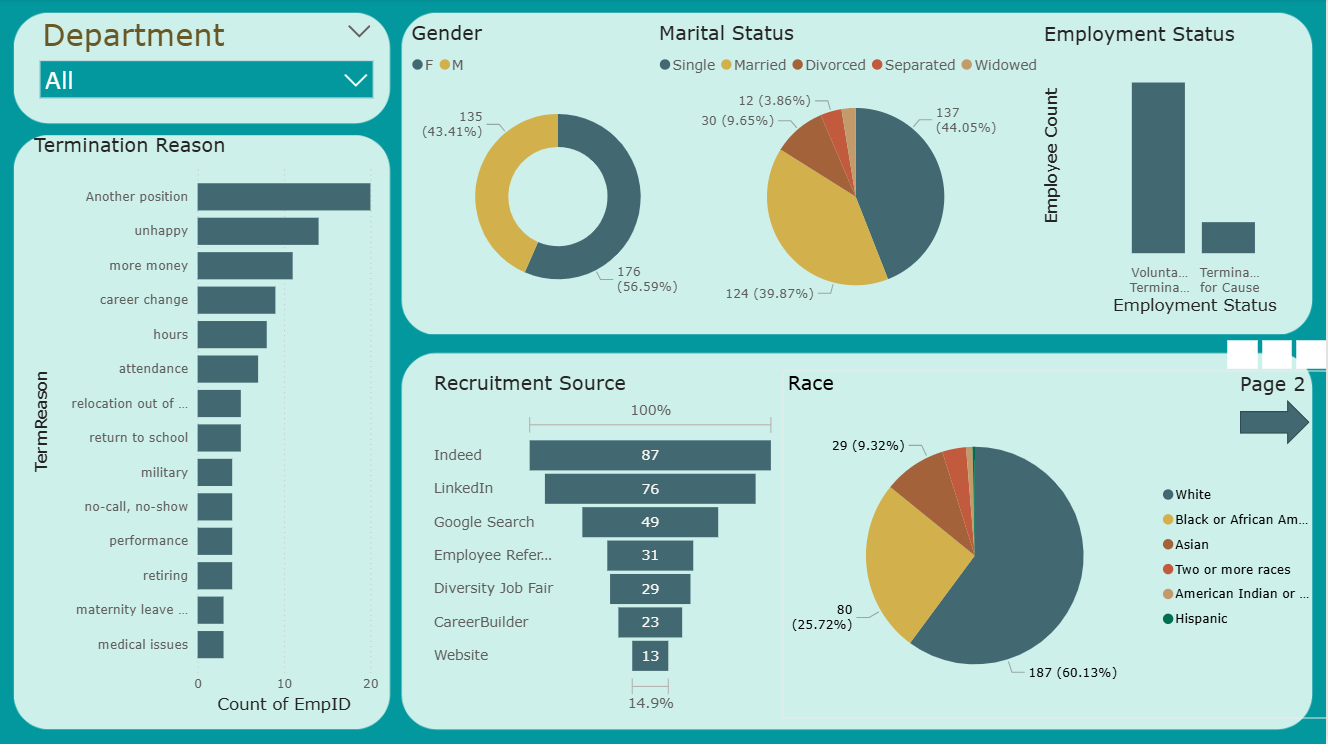

The page's visual inventory and layout, read from the dashboard file:
{"tool":"powerbi","page":{"name":"Page 1","canvas":[1280,720],"ordinal":0},"visuals":[{"type":"slicer","fields":{"Values":["HRDataset.Department"]},"box":[23.3,24.7,315.6,91.9],"z":0},{"type":"donutChart","title":"GENDER","fields":{"Category":["HRDataset.Sex"],"Y":["CountNonNull(HRDataset.EmpID)"]},"box":[393.3,21.7,304,282.3],"z":1},{"type":"pieChart","title":"MARITAL STATUS","fields":{"Category":["HRDataset.MaritalDesc"],"Y":["CountNonNull(HRDataset.EmpID)"]},"box":[676.8,24.1,289.5,288.3],"z":2},{"type":"columnChart","title":"EMPLOYMENT STATUS","fields":{"Category":["HRDataset.EmploymentStatus"],"Y":["CountNonNull(HRDataset.EmpID)"]},"box":[974.8,24.1,293.2,282.3],"z":3},{"type":"barChart","title":"TERMINATION REASON","fields":{"Category":["HRDataset.TermReason"],"Y":["CountNonNull(HRDataset.EmpID)"]},"box":[22.9,168.9,316.1,500.7],"z":4},{"type":"pieChart","title":"RACE","fields":{"Category":["HRDataset.RaceDesc"],"Y":["CountNonNull(HRDataset.EmpID)"]},"box":[413.8,371.6,376.4,263],"z":5},{"type":"funnel","title":"RECRUITMENT SOURCE","fields":{"Category":["HRDataset.RecruitmentSource"],"Y":["CountNonNull(HRDataset.EmpID)"]},"box":[839.7,371.6,415,298],"z":6}]}

Visuals, with their boxes in screenshot pixels (x1, y1, x2, y2), scaled from the page's 1280x720 canvas onto the 1328x744 screenshot:
slicer - HRDataset.Department: [24,26,352,120]
"GENDER" donutChart: [408,22,723,314]
"MARITAL STATUS" pieChart: [702,25,1003,323]
"EMPLOYMENT STATUS" columnChart: [1011,25,1316,317]
"TERMINATION REASON" barChart: [24,175,352,692]
"RACE" pieChart: [429,384,820,656]
"RECRUITMENT SOURCE" funnel: [871,384,1302,692]
